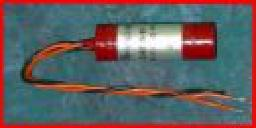Electrolytic-Capacitor: (18, 18, 251, 110)
